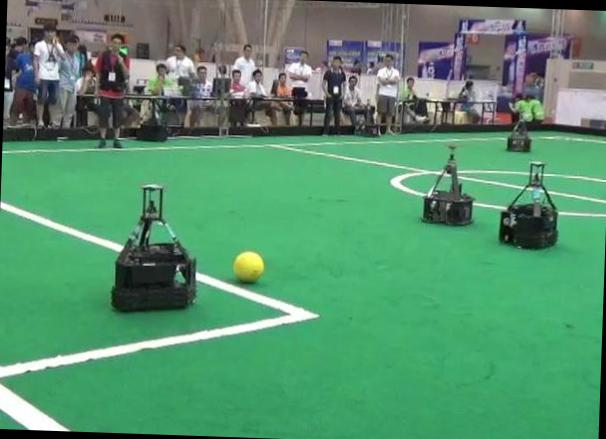ball: (232, 250, 264, 281)
person: (97, 34, 128, 147), (322, 56, 346, 134), (377, 54, 400, 133)
robot: (111, 184, 196, 310), (499, 161, 557, 247), (422, 144, 473, 224), (509, 117, 533, 151)
